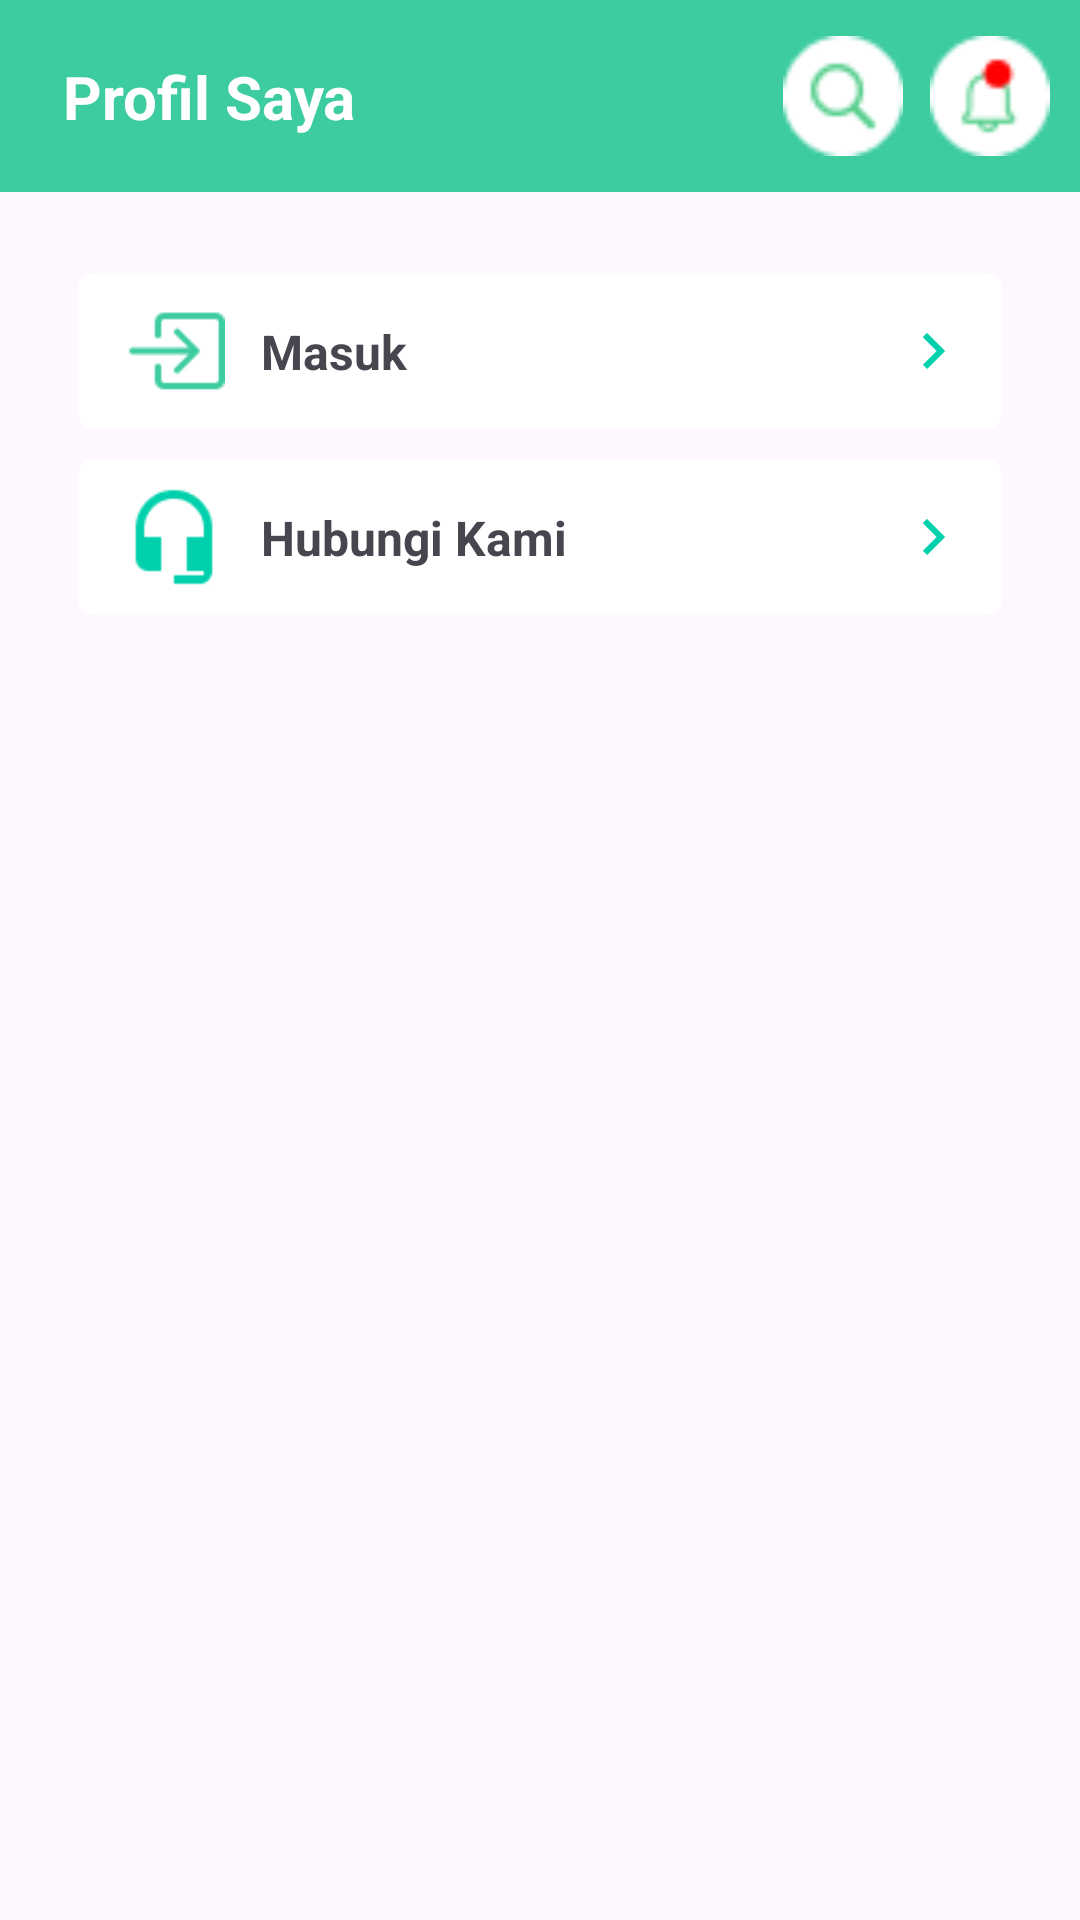

Where icons sit on this 1080w x 1920h app screen, as (x1, y1, x2, y2):
arrow right: (923, 333, 945, 369), (923, 519, 945, 555)
headset: (135, 489, 213, 585)
login: (129, 312, 225, 390)
notif: (930, 36, 1050, 156)
search profil: (783, 36, 903, 156)
